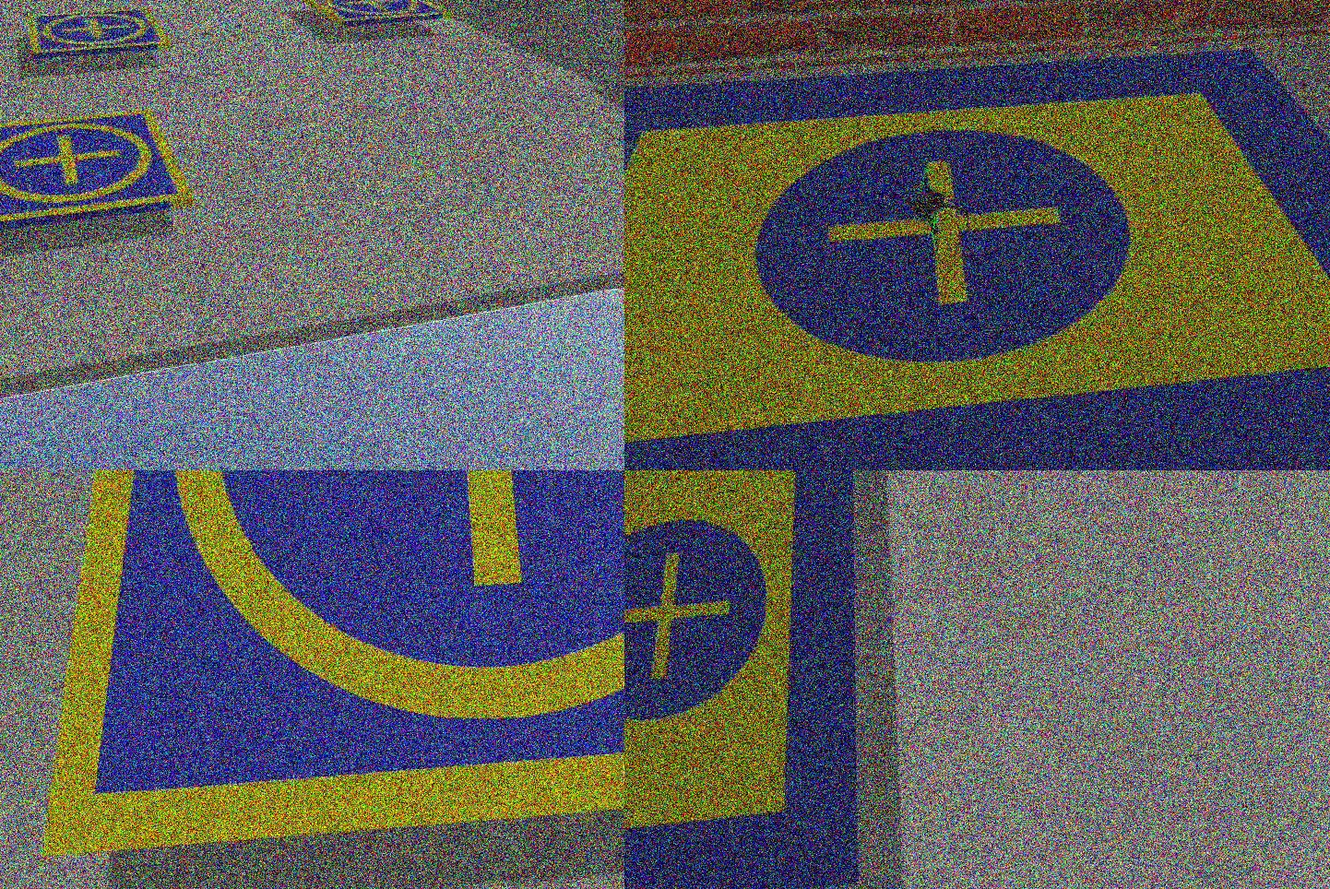large_base: (624, 50, 1330, 471), (624, 471, 862, 889)
small_base: (30, 471, 624, 861), (1, 113, 194, 242), (27, 8, 175, 58), (290, 1, 453, 30)
